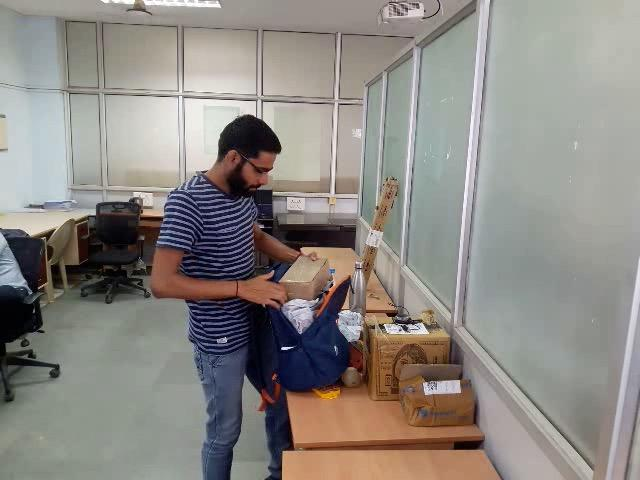shoplifting: (149, 249, 426, 378)
